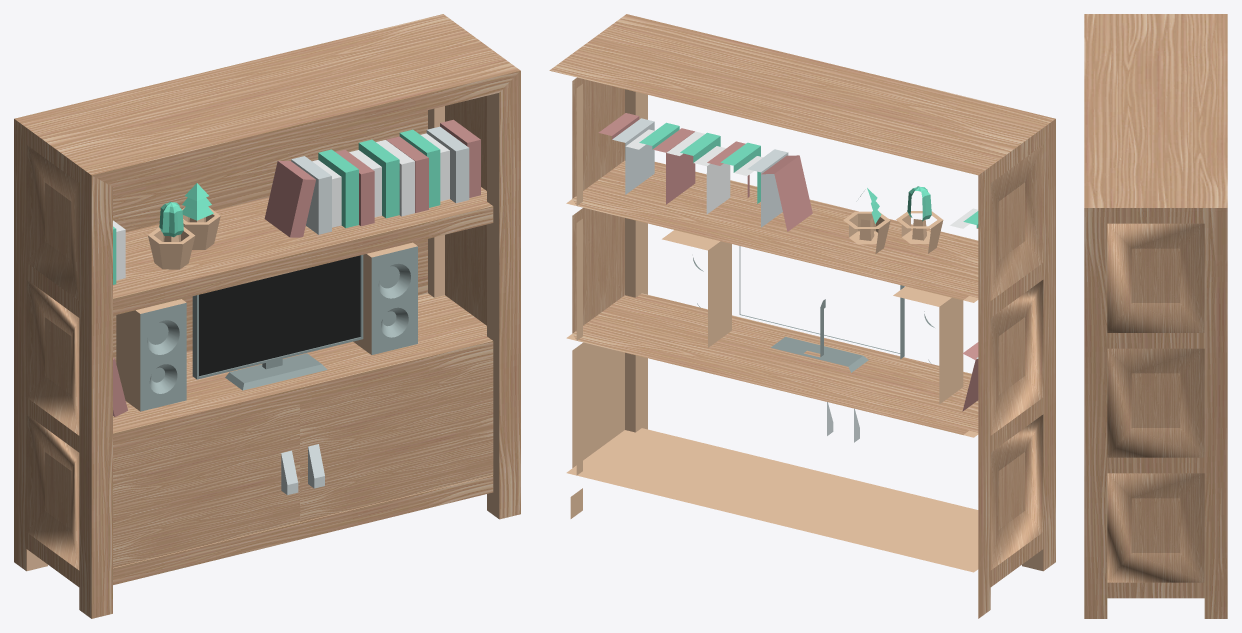
File: libreria-texture.glb
3 views of the same model, side by side, from view 1: azimuth 30°, elevation 25°; view 2: azimuth 150°, elevation 25°; view 3: azimuth 270°, elevation 25° (orthographic). The views are drawn at different scales.
Parts seen in each view (by area): view 1: libreria, doorRight, doorLeft, televisionModern(Clone), books(Clone), speakerSmall(Clone), speakerSmall(Clone).001, books(Clone).004, books(Clone).003, books(Clone).005, plantSmall2(Clone), plantSmall1(Clone) (+1 smaller); view 2: libreria, books(Clone), speakerSmall(Clone), speakerSmall(Clone).001, books(Clone).003, books(Clone).004, televisionModern(Clone), books(Clone).005, plantSmall2(Clone), plantSmall1(Clone); view 3: libreria.
Boxes of the visible parts, x1=… form: libreria: x1=14, y1=14, x2=520, y2=618; doorRight: x1=300, y1=356, x2=493, y2=522; doorLeft: x1=113, y1=403, x2=299, y2=567; televisionModern(Clone): x1=192, y1=255, x2=363, y2=390; books(Clone): x1=264, y1=149, x2=374, y2=237; speakerSmall(Clone): x1=116, y1=299, x2=186, y2=411; speakerSmall(Clone).001: x1=353, y1=242, x2=417, y2=354; books(Clone).004: x1=349, y1=139, x2=414, y2=218; books(Clone).003: x1=386, y1=129, x2=449, y2=212; books(Clone).005: x1=426, y1=119, x2=480, y2=203; plantSmall2(Clone): x1=148, y1=202, x2=195, y2=269; plantSmall1(Clone): x1=182, y1=183, x2=220, y2=249; libreria: x1=549, y1=14, x2=1055, y2=618; books(Clone): x1=707, y1=141, x2=812, y2=231; speakerSmall(Clone): x1=893, y1=286, x2=963, y2=404; speakerSmall(Clone).001: x1=662, y1=230, x2=731, y2=347; books(Clone).003: x1=625, y1=122, x2=695, y2=204; books(Clone).004: x1=666, y1=131, x2=730, y2=214; televisionModern(Clone): x1=739, y1=246, x2=904, y2=372; books(Clone).005: x1=598, y1=113, x2=654, y2=194; plantSmall2(Clone): x1=896, y1=186, x2=943, y2=253; plantSmall1(Clone): x1=843, y1=188, x2=890, y2=253; libreria: x1=1084, y1=14, x2=1227, y2=618.
Bounding box in the file's own units: 0.8 × 0.79 × 0.2501.
Materials: 9 (1 with a texture image).
